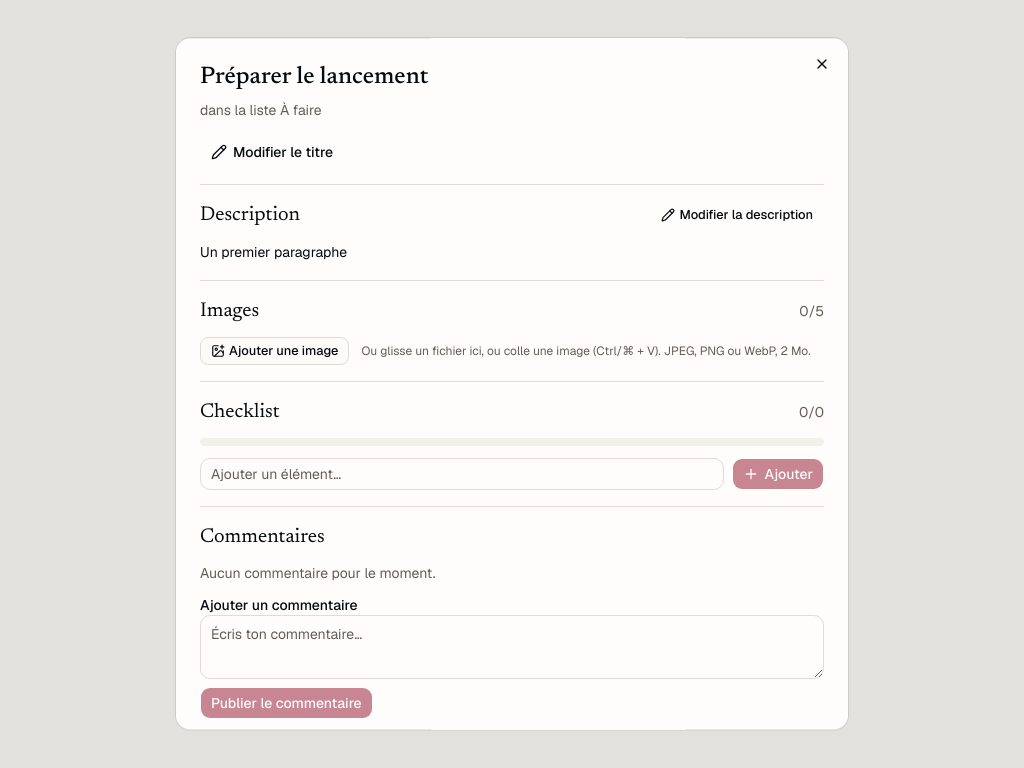
Test: fenêtre d'une carte › annule la description avec Échap sans fermer la carte
Click the button "Modifier la description" at (737, 215), box [650,201,824,229]
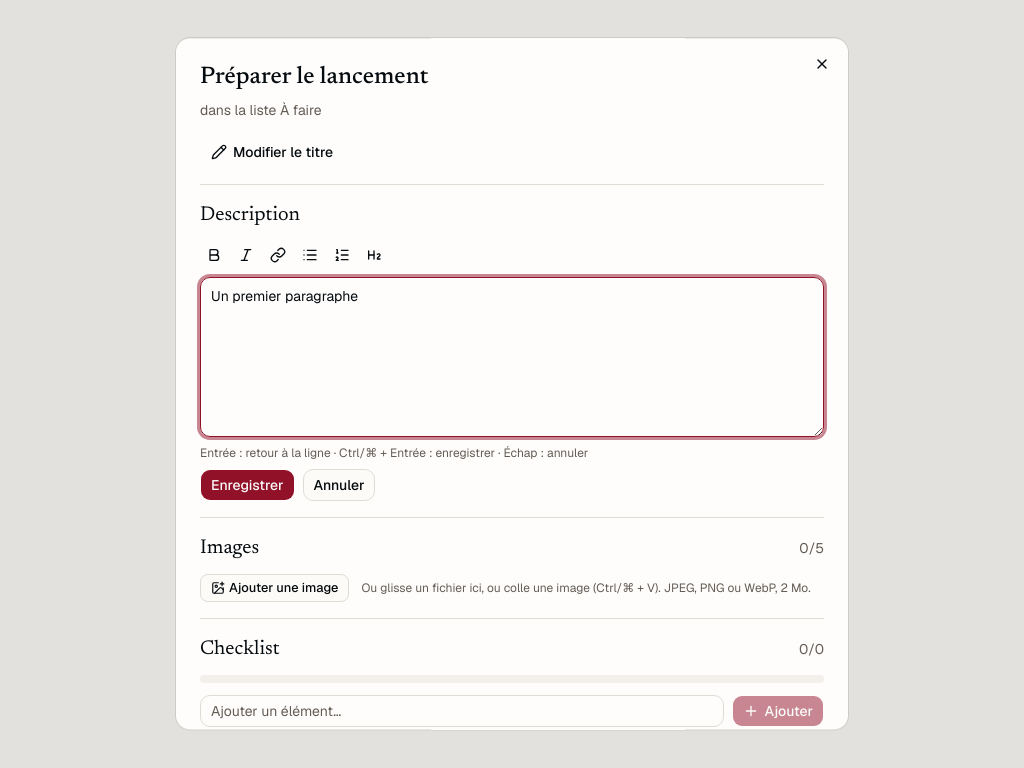
Replace the text in the text box named "Description de la carte" with "Brouillon" at (512, 357), box [200,277,824,437]
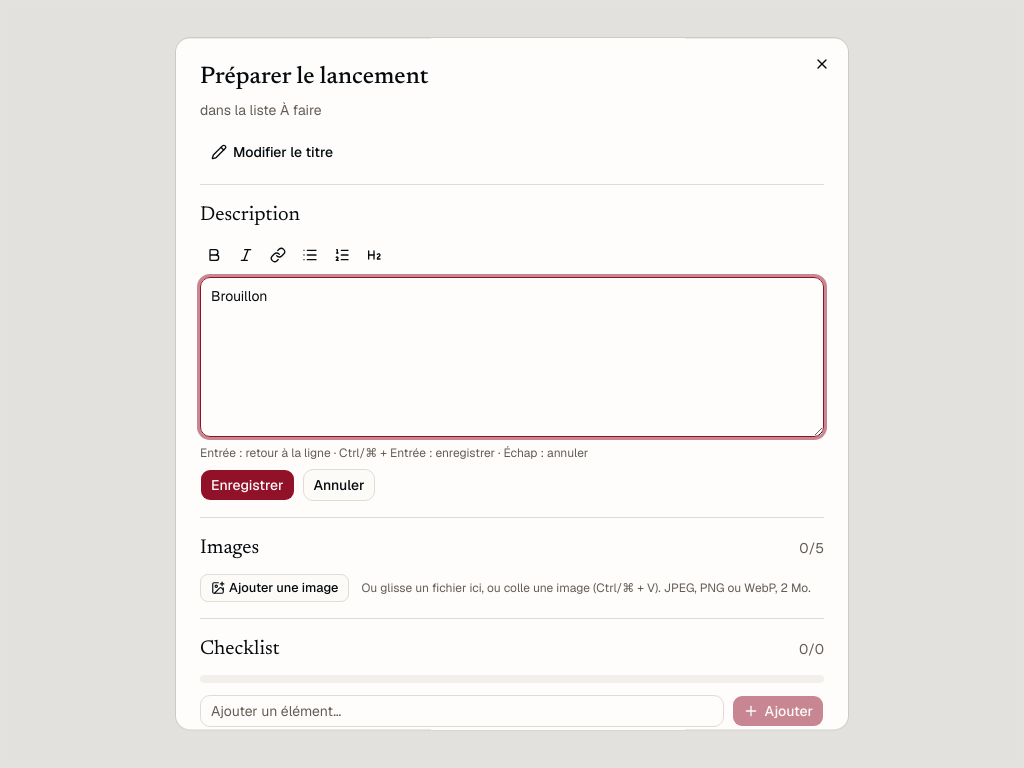
Press Escape in the text box named "Description de la carte", box [200,277,824,437]
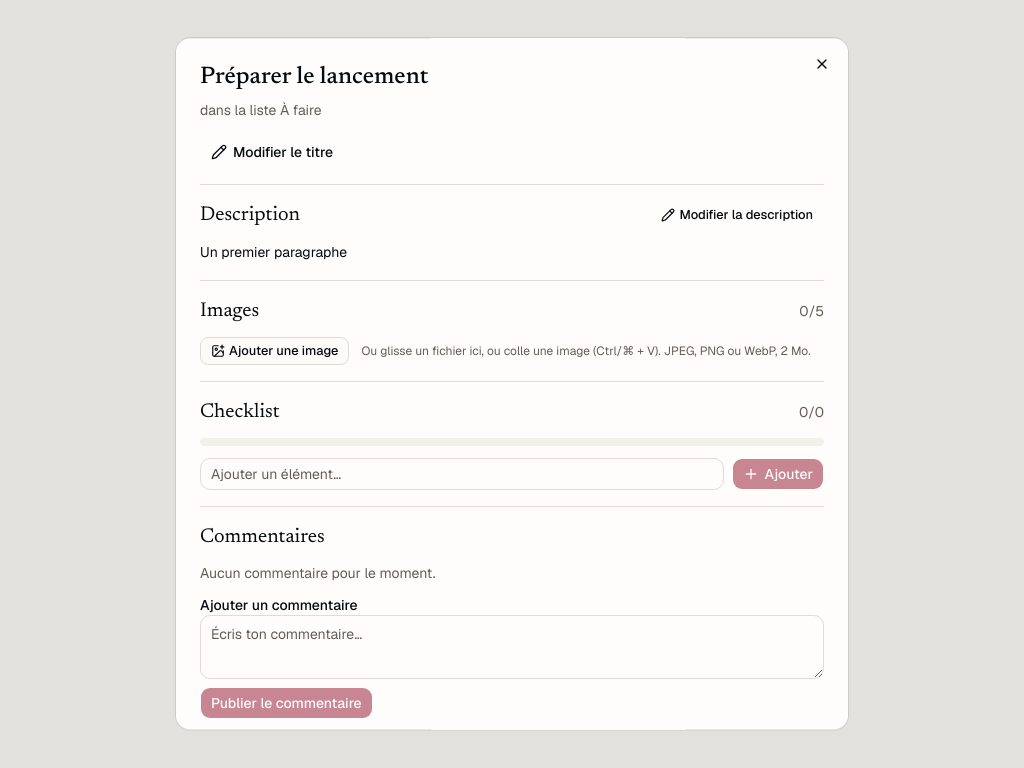
Expected: the text "Un premier paragraphe" is shown, [200,243,347,261]
